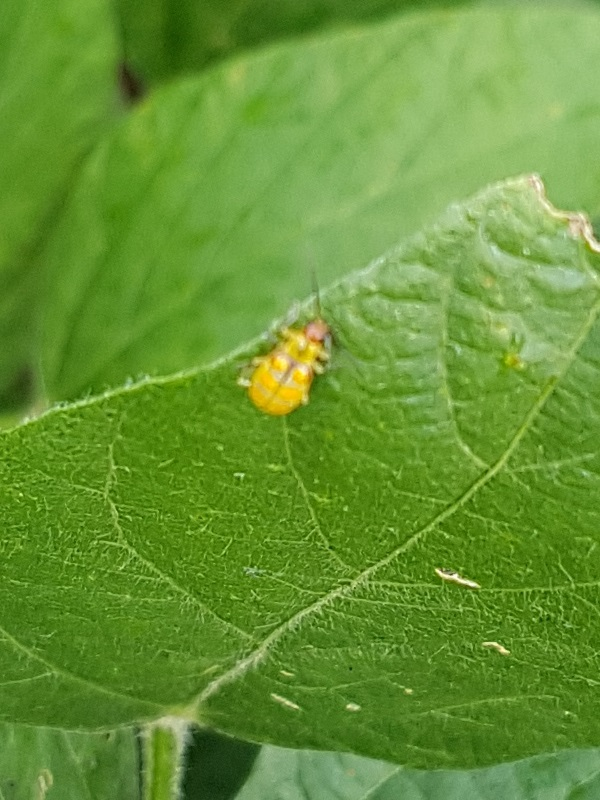Diabrotica_speciosa: (224, 266, 353, 424)
